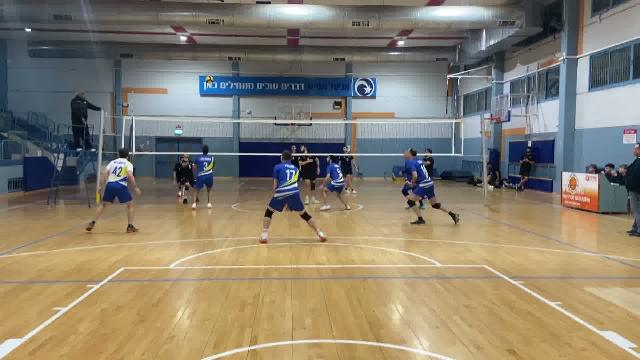ball: (202, 73, 214, 85)
